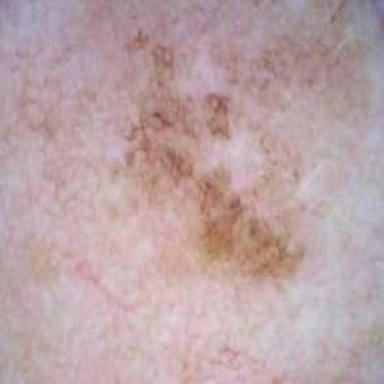Melanoma: (125, 44, 229, 195), (197, 166, 302, 276), (126, 28, 149, 50), (147, 162, 147, 162)
